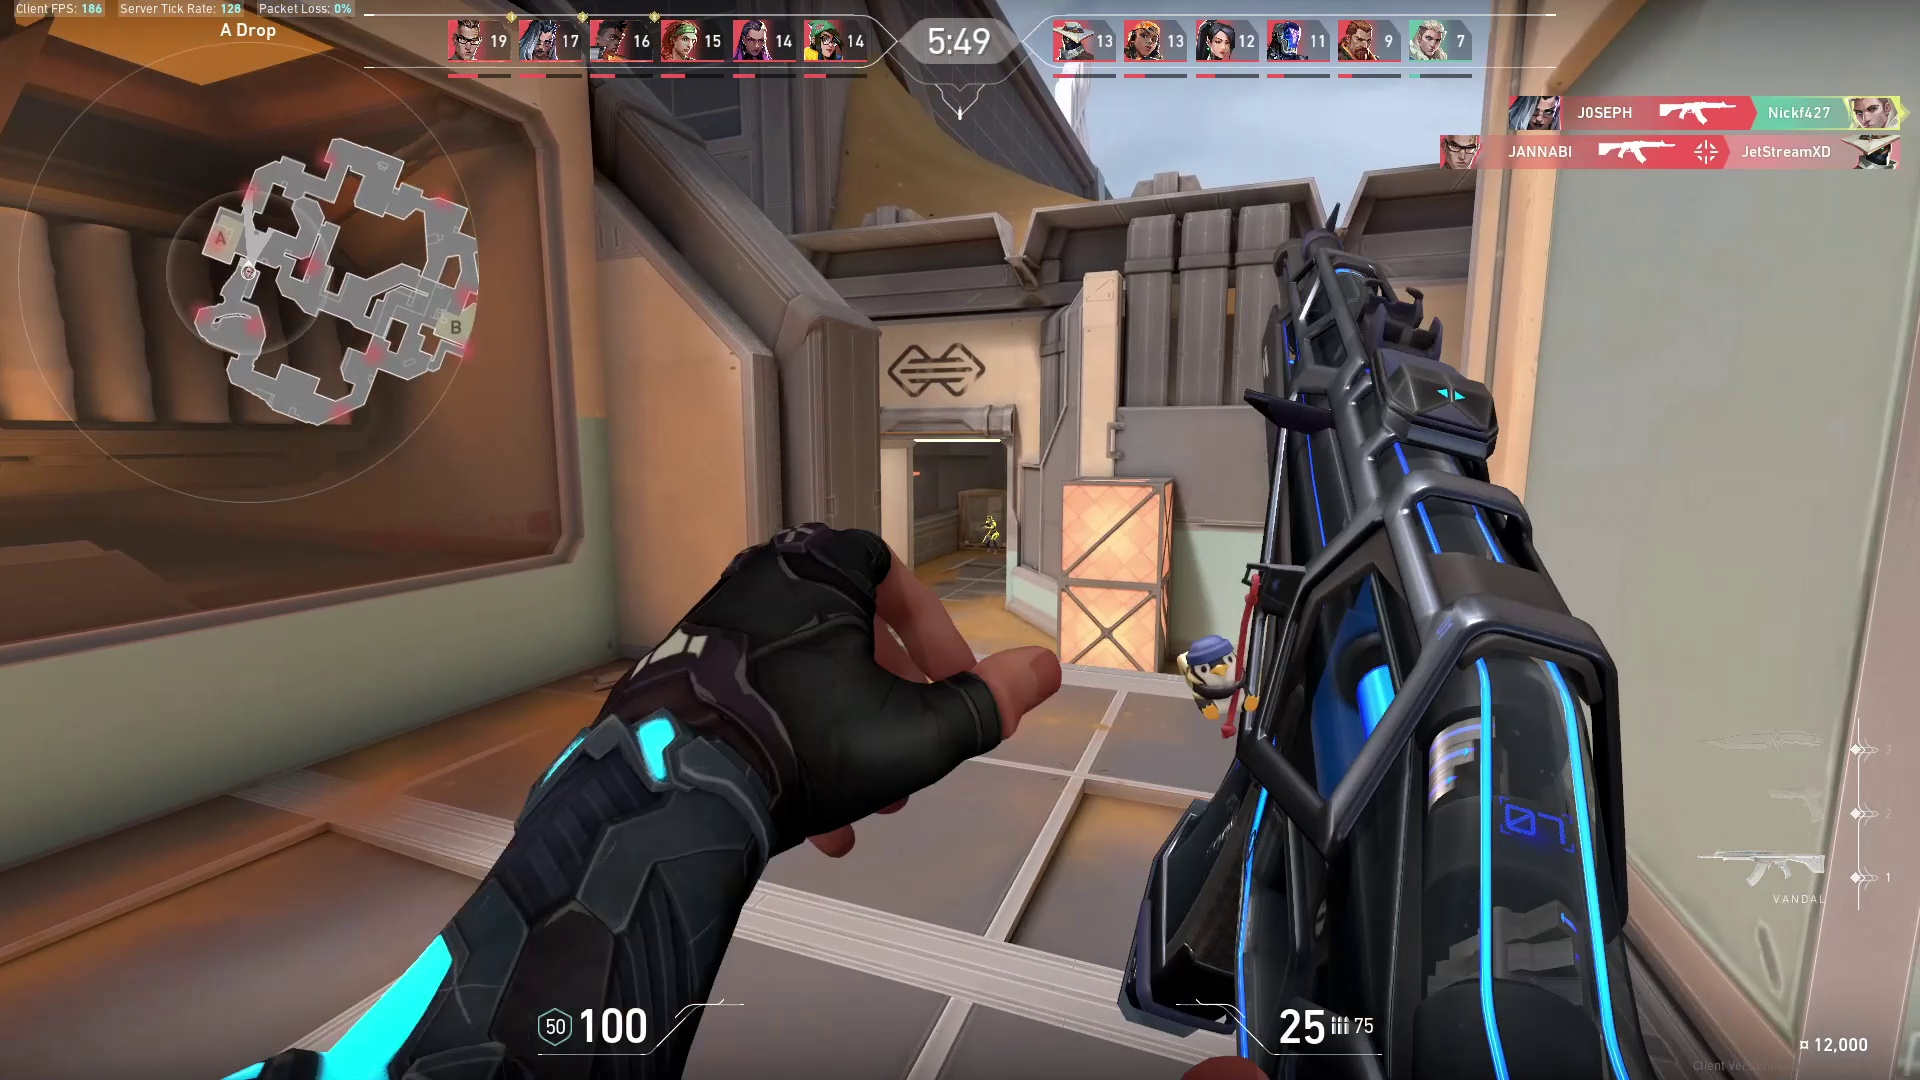enemy_body: (978, 524, 1004, 556)
enemy_head: (985, 513, 996, 524)
